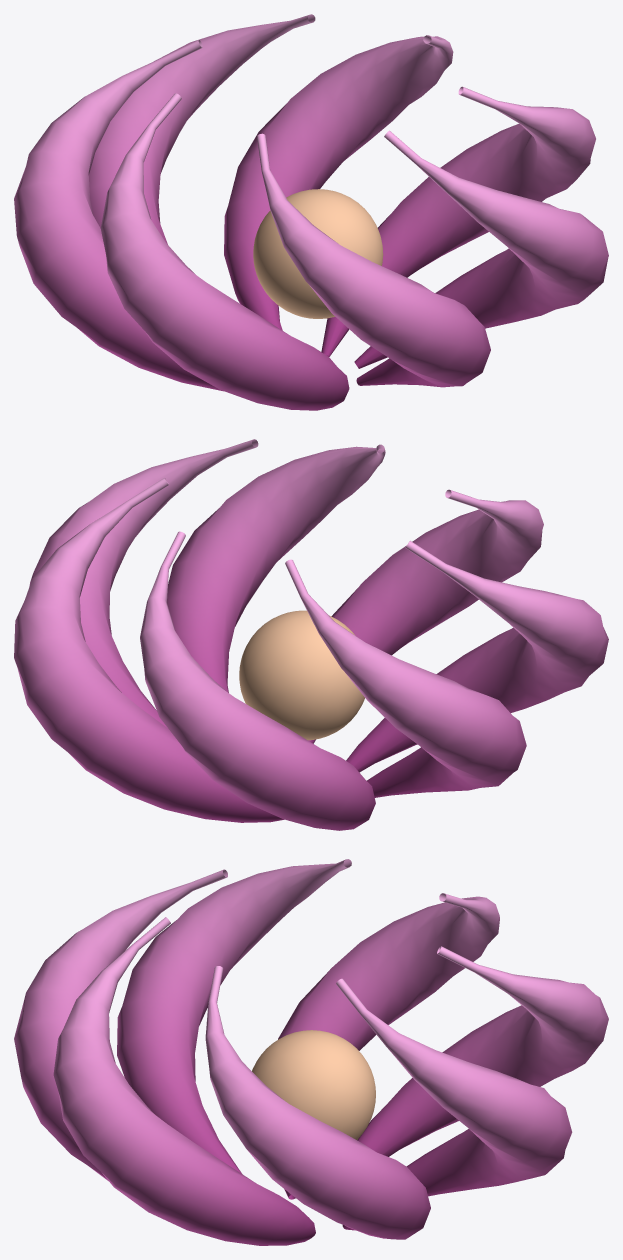
File: soul.fbx
The picture shows the model from 3 angles, top to bottom: view 1: azimuth 30°, elevation 25°; view 2: azimuth 150°, elevation 25°; view 3: azimuth 270°, elevation 25°; orthographic projection.
Visible parts, largest first — view 1: soul; view 2: soul; view 3: soul.
Boxes of the visible parts, <box> form: soul: <box>14,14,608,410</box>; soul: <box>14,439,608,830</box>; soul: <box>14,859,608,1245</box>.
Size of the model in its own units: 0.0882 by 0.0498 by 0.09.
Materials: 1 (1 with a texture image).
